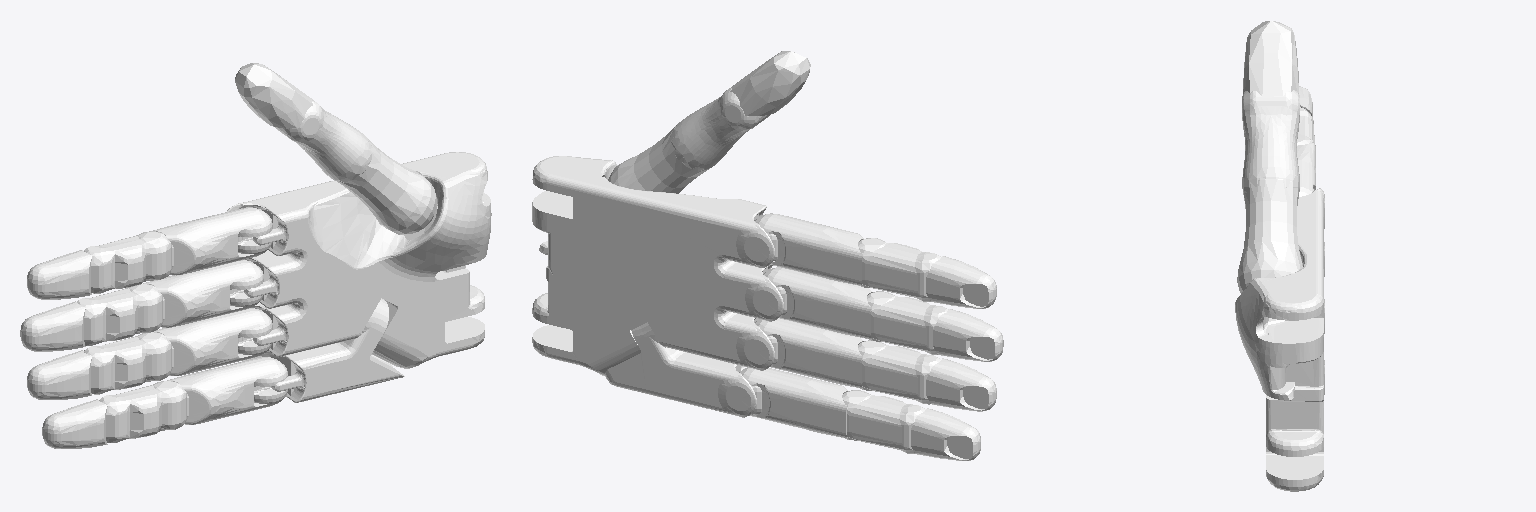
--- Facts derived from the render (not from the file) ---
3 views of the same robot in one strip: view 1: azimuth 30°, elevation 25°; view 2: azimuth 150°, elevation 25°; view 3: azimuth 270°, elevation 25° (orthographic).
Robot: converted_robot — 49 links, 48 joints (22 revolute, 26 fixed); root link world; default pose: every joint at zero.
Visible links, largest first — view 1: robot0:palm, robot0:lfmetacarpal, robot0:thproximal, robot0:lfproximal, robot0:ffproximal, robot0:mfproximal, robot0:rfproximal, robot0:thmiddle, robot0:rfmiddle, robot0:lfmiddle, robot0:ffmiddle, robot0:mfmiddle (+9 smaller); view 2: robot0:palm, robot0:lfmetacarpal, robot0:ffproximal, robot0:lfproximal, robot0:mfproximal, robot0:rfproximal, robot0:thmiddle, robot0:ffmiddle, robot0:lfmiddle, robot0:rfmiddle, robot0:mfmiddle, robot0:thdistal (+5 smaller); view 3: robot0:palm, robot0:thproximal, robot0:thmiddle, robot0:thdistal, robot0:ffproximal.
Boxes of the visible links, x1,y1,x2,y2 form: robot0:palm: (227,152,491,368); robot0:lfmetacarpal: (243,298,404,402); robot0:thproximal: (335,138,436,234); robot0:lfproximal: (167,357,284,424); robot0:ffproximal: (153,207,269,275); robot0:mfproximal: (143,260,260,327); robot0:rfproximal: (154,308,269,375); robot0:thmiddle: (275,100,372,182); robot0:rfmiddle: (84,332,171,394); robot0:lfmiddle: (99,381,186,442); robot0:ffmiddle: (84,231,171,293); robot0:mfmiddle: (77,284,162,345); robot0:palm: (532,156,783,376); robot0:lfmetacarpal: (605,322,756,417); robot0:ffproximal: (754,213,863,285); robot0:lfproximal: (739,367,847,437); robot0:mfproximal: (763,267,872,338); robot0:rfproximal: (755,318,863,388); robot0:thmiddle: (670,88,769,171); robot0:ffmiddle: (858,238,940,301); robot0:lfmiddle: (842,390,925,453); robot0:rfmiddle: (858,340,940,404); robot0:mfmiddle: (867,291,948,354); robot0:thdistal: (730,51,810,115); robot0:palm: (1235,188,1324,491); robot0:thproximal: (1237,176,1302,292); robot0:thmiddle: (1242,90,1299,195); robot0:thdistal: (1243,21,1298,97); robot0:ffproximal: (1297,143,1315,196).
Bounding box of the posed robot: 0.2096 × 0.0343 × 0.1548 m (x, y, z).
Meshes: 9 distinct files referenced, 21 mesh visuals loaded (9 binary STL).

The robot description file, URDF, robot "converted_robot":
<?xml version="1.0" ?>
<robot name="converted_robot">
   <link name="world">
      <inertial>
         <origin xyz="0.0 0.0 0.0" rpy="0 0.0 0"/>
         <mass value="0.0"/>
         <inertia ixx="0.0" iyy="0.0" izz="0.0" ixy="0" ixz="0" iyz="0"/>
      </inertial>
   </link>
   <link name="robot0:hand mount">
      <inertial>
         <origin xyz="0.0 0.0 0.0" rpy="0.0 0.0 0.0"/>
         <mass value="0.1"/>
         <inertia ixx="0.001" iyy="0.001" izz="0.001" ixy="0" ixz="0" iyz="0"/>
      </inertial>
   </link>
   <link name="world2robot0:hand mount_fixed_jointbody">
      <inertial>
         <origin xyz="0.0 0.0 0.0" rpy="0.0 0.0 0.0"/>
         <mass value="0.001"/>
         <inertia ixx="1e-09" iyy="1e-09" izz="1e-09" ixy="0" ixz="0" iyz="0"/>
      </inertial>
   </link>     
   <joint type="fixed" name="world2robot0:hand mount_fixed">
      <parent link="world"/>
      <child link="world2robot0:hand mount_fixed_jointbody"/>
      <origin xyz="0.0 0.0 0.0" rpy="0.0 -1.5707963267948966 0.0"/>
   </joint>
   <joint type="fixed" name="world2robot0:hand mount_fixed_offset">
      <parent link="world2robot0:hand mount_fixed_jointbody"/>
      <child link="robot0:hand mount"/>
      <origin xyz="-0.0 -0.0 -0.0" rpy="0.0 0.0 0.0"/>
   </joint>
   <link name="robot0:palm">
      <inertial>
         <origin xyz="0.006 0.0 0.036" rpy="0.16784713124221648 0.04641103986884443 1.5420568046006367"/>
         <mass value="4.0"/>
         <inertia ixx="0.01" iyy="0.01" izz="0.0075" ixy="0" ixz="0" iyz="0"/>
      </inertial>
      <visual name="robot0:palm">
         <origin xyz="0.006188630086341022 -0.0006422059367043002 0.036023517307350136" rpy="0.18523084714855362 0.047842548447998734 1.5429462516268304"/>
         <geometry>
            <mesh filename="converted_robot0:palm.stl"/>
         </geometry>
         <material name="white"/>
      </visual>
   </link>
   <link name="robot0:hand mount2robot0:palm_fixed_jointbody">
      <inertial>
         <origin xyz="0.0 0.0 0.0" rpy="0.0 0.0 0.0"/>
         <mass value="0.001"/>
         <inertia ixx="1e-09" iyy="1e-09" izz="1e-09" ixy="0" ixz="0" iyz="0"/>
      </inertial>
   </link>
   <joint type="fixed" name="robot0:hand mount2robot0:palm_fixed">
      <parent link="robot0:hand mount"/>
      <child link="robot0:hand mount2robot0:palm_fixed_jointbody"/>
      <origin xyz="0.0 0.0 0.0" rpy="0.0 0.0 0.0"/>
   </joint>
   <joint type="fixed" name="robot0:hand mount2robot0:palm_fixed_offset">
      <parent link="robot0:hand mount2robot0:palm_fixed_jointbody"/>
      <child link="robot0:palm"/>
      <origin xyz="-0.0 -0.0 -0.0" rpy="0.0 0.0 0.0"/>
   </joint>
   <link name="robot0:ffknuckle">
      <inertial>
         <origin xyz="0.0 0.0 0.0" rpy="2.0477583421747254 0.011366961427066169 0.007130225047531689"/>
         <mass value="0.008"/>
         <inertia ixx="1e-05" iyy="1e-05" izz="1e-05" ixy="0" ixz="0" iyz="0"/>
      </inertial>
      <visual name="robot0:knuckle">
         <origin xyz="-7.984755103175037e-06 0.00018549594562487147 0.00028291811195881977" rpy="2.0471337843138473 0.011288391859240576 0.0072775998130758905"/>
         <geometry>
            <mesh filename="converted_robot0:knuckle.stl"/>
         </geometry>
         <material name="white"/>
      </visual>
   </link>
   <link name="robot0:FFJ3_jointbody">
      <inertial>
         <origin xyz="0.0 0.0 0.0" rpy="0.0 0.0 0.0"/>
         <mass value="0.001"/>
         <inertia ixx="1e-09" iyy="1e-09" izz="1e-09" ixy="0" ixz="0" iyz="0"/>
      </inertial>
   </link>
   <joint type="revolute" name="robot0:FFJ3">
      <parent link="robot0:palm"/>
      <child link="robot0:FFJ3_jointbody"/>
      <origin xyz="0.033 0.0 0.095" rpy="0.0 0.0 0.0"/>
      <axis xyz="0.0 1.0 0.0"/>
      <limit lower="-0.349" upper="0.349" effort="100" velocity="100"/>
   </joint>
   <joint type="fixed" name="robot0:FFJ3_offset">
      <parent link="robot0:FFJ3_jointbody"/>
      <child link="robot0:ffknuckle"/>
      <origin xyz="-0.0 -0.0 -0.0" rpy="0.0 0.0 0.0"/>
   </joint>
   <link name="robot0:ffproximal">
      <inertial>
         <origin xyz="0.0 0.0 0.023" rpy="0.0 0.011315296524084362 1.5707963267948966"/>
         <mass value="0.014"/>
         <inertia ixx="1e-05" iyy="1e-05" izz="1e-05" ixy="0" ixz="0" iyz="0"/>
      </inertial>
      <visual name="robot0:F3">
         <origin xyz="1.2109050075444518e-06 9.761867807593364e-06 0.022880663855845584" rpy="-7.130367859915891e-06 0.011893974846255873 1.5705985128531308"/>
         <geometry>
            <mesh filename="converted_robot0:F3.stl"/>
         </geometry>
         <material name="white"/>
      </visual>
   </link>
   <link name="robot0:FFJ2_jointbody">
      <inertial>
         <origin xyz="0.0 0.0 0.0" rpy="0.0 0.0 0.0"/>
         <mass value="0.001"/>
         <inertia ixx="1e-09" iyy="1e-09" izz="1e-09" ixy="0" ixz="0" iyz="0"/>
      </inertial>
   </link>
   <joint type="revolute" name="robot0:FFJ2">
      <parent link="robot0:ffknuckle"/>
      <child link="robot0:FFJ2_jointbody"/>
      <origin xyz="0.0 0.0 0.0" rpy="0.0 0.0 0.0"/>
      <axis xyz="1.0 0.0 0.0"/>
      <limit lower="0.0" upper="1.571" effort="100" velocity="100"/>
   </joint>
   <joint type="fixed" name="robot0:FFJ2_offset">
      <parent link="robot0:FFJ2_jointbody"/>
      <child link="robot0:ffproximal"/>
      <origin xyz="-0.0 -0.0 -0.0" rpy="0.0 0.0 0.0"/>
   </joint>
   <link name="robot0:ffmiddle">
      <inertial>
         <origin xyz="0.0 0.0 0.011" rpy="0.0 0.0 1.5707963267948963"/>
         <mass value="0.012"/>
         <inertia ixx="1e-05" iyy="1e-05" izz="1e-05" ixy="0" ixz="0" iyz="0"/>
      </inertial>
      <visual name="robot0:F2">
         <origin xyz="-2.7107102874988925e-06 -3.218722724901653e-05 0.011475158468883542" rpy="-1.6030408530105524e-05 -0.0002661570742428232 1.5707963267948966"/>
         <geometry>
            <mesh filename="converted_robot0:F2.stl"/>
         </geometry>
         <material name="white"/>
      </visual>
   </link>
   <link name="robot0:FFJ1_jointbody">
      <inertial>
         <origin xyz="0.0 0.0 0.0" rpy="0.0 0.0 0.0"/>
         <mass value="0.001"/>
         <inertia ixx="1e-09" iyy="1e-09" izz="1e-09" ixy="0" ixz="0" iyz="0"/>
      </inertial>
   </link>
   <joint type="revolute" name="robot0:FFJ1">
      <parent link="robot0:ffproximal"/>
      <child link="robot0:FFJ1_jointbody"/>
      <origin xyz="0.0 0.0 0.045" rpy="0.0 0.0 0.0"/>
      <axis xyz="1.0 0.0 0.0"/>
      <limit lower="0.0" upper="1.571" effort="100" velocity="100"/>
   </joint>
   <joint type="fixed" name="robot0:FFJ1_offset">
      <parent link="robot0:FFJ1_jointbody"/>
      <child link="robot0:ffmiddle"/>
      <origin xyz="-0.0 -0.0 -0.0" rpy="0.0 0.0 0.0"/>
   </joint>
   <link name="robot0:ffdistal">
      <inertial>
         <origin xyz="0.0 0.0 0.015" rpy="-8.673929730061765e-19 0.008486512007798819 1.5707963267948966"/>
         <mass value="0.01"/>
         <inertia ixx="1e-05" iyy="1e-05" izz="1e-05" ixy="0" ixz="0" iyz="0"/>
      </inertial>
      <visual name="robot0:F1">
         <origin xyz="7.811151132214205e-09 -4.4263651662937025e-05 0.016242626073421716" rpy="0.0 0.007786172590363849 1.5707963267948966"/>
         <geometry>
            <mesh filename="converted_robot0:F1.stl"/>
         </geometry>
         <material name="white"/>
      </visual>
   </link>
   <link name="robot0:FFJ0_jointbody">
      <inertial>
         <origin xyz="0.0 0.0 0.0" rpy="0.0 0.0 0.0"/>
         <mass value="0.001"/>
         <inertia ixx="1e-09" iyy="1e-09" izz="1e-09" ixy="0" ixz="0" iyz="0"/>
      </inertial>
   </link>
   <joint type="revolute" name="robot0:FFJ0">
      <parent link="robot0:ffmiddle"/>
      <child link="robot0:FFJ0_jointbody"/>
      <origin xyz="0.0 0.0 0.025" rpy="0.0 0.0 0.0"/>
      <axis xyz="1.0 0.0 0.0"/>
      <limit lower="0.0" upper="1.571" effort="100" velocity="100"/>
   </joint>
   <joint type="fixed" name="robot0:FFJ0_offset">
      <parent link="robot0:FFJ0_jointbody"/>
      <child link="robot0:ffdistal"/>
      <origin xyz="-0.0 -0.0 -0.0" rpy="0.0 0.0 0.0"/>
   </joint>
   <link name="robot0:mfknuckle">
      <inertial>
         <origin xyz="0.0 0.0 0.0" rpy="2.0477583421747254 0.011366961427066169 0.007130225047531689"/>
         <mass value="0.008"/>
         <inertia ixx="1e-05" iyy="1e-05" izz="1e-05" ixy="0" ixz="0" iyz="0"/>
      </inertial>
      <visual name="robot0:knuckle">
         <origin xyz="-7.984755103175037e-06 0.00018549594562487147 0.00028291811195881977" rpy="2.0471337843138473 0.011288391859240576 0.0072775998130758905"/>
         <geometry>
            <mesh filename="converted_robot0:knuckle.stl"/>
         </geometry>
         <material name="white"/>
      </visual>
   </link>
   <link name="robot0:MFJ3_jointbody">
      <inertial>
         <origin xyz="0.0 0.0 0.0" rpy="0.0 0.0 0.0"/>
         <mass value="0.001"/>
         <inertia ixx="1e-09" iyy="1e-09" izz="1e-09" ixy="0" ixz="0" iyz="0"/>
      </inertial>
   </link>
   <joint type="revolute" name="robot0:MFJ3">
      <parent link="robot0:palm"/>
      <child link="robot0:MFJ3_jointbody"/>
      <origin xyz="0.011 0.0 0.099" rpy="0.0 0.0 0.0"/>
      <axis xyz="0.0 1.0 0.0"/>
      <limit lower="-0.349" upper="0.349" effort="100" velocity="100"/>
   </joint>
   <joint type="fixed" name="robot0:MFJ3_offset">
      <parent link="robot0:MFJ3_jointbody"/>
      <child link="robot0:mfknuckle"/>
      <origin xyz="-0.0 -0.0 -0.0" rpy="0.0 0.0 0.0"/>
   </joint>
   <link name="robot0:mfproximal">
      <inertial>
         <origin xyz="0.0 0.0 0.023" rpy="0.0 0.011315296524084362 1.5707963267948966"/>
         <mass value="0.014"/>
         <inertia ixx="1e-05" iyy="1e-05" izz="1e-05" ixy="0" ixz="0" iyz="0"/>
      </inertial>
      <visual name="robot0:F3">
         <origin xyz="1.2109050075444518e-06 9.761867807593364e-06 0.022880663855845584" rpy="-7.130367859915891e-06 0.011893974846255873 1.5705985128531308"/>
         <geometry>
            <mesh filename="converted_robot0:F3.stl"/>
         </geometry>
         <material name="white"/>
      </visual>
   </link>
   <link name="robot0:MFJ2_jointbody">
      <inertial>
         <origin xyz="0.0 0.0 0.0" rpy="0.0 0.0 0.0"/>
         <mass value="0.001"/>
         <inertia ixx="1e-09" iyy="1e-09" izz="1e-09" ixy="0" ixz="0" iyz="0"/>
      </inertial>
   </link>
   <joint type="revolute" name="robot0:MFJ2">
      <parent link="robot0:mfknuckle"/>
      <child link="robot0:MFJ2_jointbody"/>
      <origin xyz="0.0 0.0 0.0" rpy="0.0 0.0 0.0"/>
      <axis xyz="1.0 0.0 0.0"/>
      <limit lower="0.0" upper="1.571" effort="100" velocity="100"/>
   </joint>
   <joint type="fixed" name="robot0:MFJ2_offset">
      <parent link="robot0:MFJ2_jointbody"/>
      <child link="robot0:mfproximal"/>
      <origin xyz="-0.0 -0.0 -0.0" rpy="0.0 0.0 0.0"/>
   </joint>
   <link name="robot0:mfmiddle">
      <inertial>
         <origin xyz="0.0 0.0 0.012" rpy="0.0 0.0 1.5707963267948963"/>
         <mass value="0.012"/>
         <inertia ixx="1e-05" iyy="1e-05" izz="1e-05" ixy="0" ixz="0" iyz="0"/>
      </inertial>
      <visual name="robot0:F2">
         <origin xyz="-2.7107102874988925e-06 -3.218722724901653e-05 0.011475158468883542" rpy="-1.6030408530105524e-05 -0.0002661570742428232 1.5707963267948966"/>
         <geometry>
            <mesh filename="converted_robot0:F2.stl"/>
         </geometry>
         <material name="white"/>
      </visual>
   </link>
   <link name="robot0:MFJ1_jointbody">
      <inertial>
         <origin xyz="0.0 0.0 0.0" rpy="0.0 0.0 0.0"/>
         <mass value="0.001"/>
         <inertia ixx="1e-09" iyy="1e-09" izz="1e-09" ixy="0" ixz="0" iyz="0"/>
      </inertial>
   </link>
   <joint type="revolute" name="robot0:MFJ1">
      <parent link="robot0:mfproximal"/>
      <child link="robot0:MFJ1_jointbody"/>
      <origin xyz="0.0 0.0 0.045" rpy="0.0 0.0 0.0"/>
      <axis xyz="1.0 0.0 0.0"/>
      <limit lower="0.0" upper="1.571" effort="100" velocity="100"/>
   </joint>
   <joint type="fixed" name="robot0:MFJ1_offset">
      <parent link="robot0:MFJ1_jointbody"/>
      <child link="robot0:mfmiddle"/>
      <origin xyz="-0.0 -0.0 -0.0" rpy="0.0 0.0 0.0"/>
   </joint>
   <link name="robot0:mfdistal">
      <inertial>
         <origin xyz="0.0 0.0 0.015" rpy="-8.673929730061765e-19 0.008486512007798819 1.5707963267948966"/>
         <mass value="0.01"/>
         <inertia ixx="1e-05" iyy="1e-05" izz="1e-05" ixy="0" ixz="0" iyz="0"/>
      </inertial>
      <visual name="robot0:F1">
         <origin xyz="7.811151132214205e-09 -4.4263651662937025e-05 0.015242626073421717" rpy="0.0 0.007786172590363849 1.5707963267948966"/>
         <geometry>
            <mesh filename="converted_robot0:F1.stl"/>
         </geometry>
         <material name="white"/>
      </visual>
   </link>
   <link name="robot0:MFJ0_jointbody">
      <inertial>
         <origin xyz="0.0 0.0 0.0" rpy="0.0 0.0 0.0"/>
         <mass value="0.001"/>
         <inertia ixx="1e-09" iyy="1e-09" izz="1e-09" ixy="0" ixz="0" iyz="0"/>
      </inertial>
   </link>
   <joint type="revolute" name="robot0:MFJ0">
      <parent link="robot0:mfmiddle"/>
      <child link="robot0:MFJ0_jointbody"/>
      <origin xyz="0.0 0.0 0.025" rpy="0.0 0.0 0.0"/>
      <axis xyz="1.0 0.0 0.0"/>
      <limit lower="0.0" upper="1.571" effort="100" velocity="100"/>
   </joint>
   <joint type="fixed" name="robot0:MFJ0_offset">
      <parent link="robot0:MFJ0_jointbody"/>
      <child link="robot0:mfdistal"/>
      <origin xyz="-0.0 -0.0 -0.0" rpy="0.0 0.0 0.0"/>
   </joint>
   <link name="robot0:rfknuckle">
      <inertial>
         <origin xyz="0.0 0.0 0.0" rpy="2.0477583421747254 0.011366961427066169 0.007130225047531689"/>
         <mass value="0.008"/>
         <inertia ixx="1e-05" iyy="1e-05" izz="1e-05" ixy="0" ixz="0" iyz="0"/>
      </inertial>
      <visual name="robot0:knuckle">
         <origin xyz="-7.984755103175037e-06 0.00018549594562487147 0.00028291811195881977" rpy="2.0471337843138473 0.011288391859240576 0.0072775998130758905"/>
         <geometry>
            <mesh filename="converted_robot0:knuckle.stl"/>
         </geometry>
         <material name="white"/>
      </visual>
   </link>
   <link name="robot0:RFJ3_jointbody">
      <inertial>
         <origin xyz="0.0 0.0 0.0" rpy="0.0 0.0 0.0"/>
         <mass value="0.001"/>
         <inertia ixx="1e-09" iyy="1e-09" izz="1e-09" ixy="0" ixz="0" iyz="0"/>
      </inertial>
   </link>
   <joint type="revolute" name="robot0:RFJ3">
      <parent link="robot0:palm"/>
      <child link="robot0:RFJ3_jointbody"/>
      <origin xyz="-0.011 0.0 0.095" rpy="0.0 0.0 0.0"/>
      <axis xyz="0.0 1.0 0.0"/>
      <limit lower="-0.349" upper="0.349" effort="100" velocity="100"/>
   </joint>
   <joint type="fixed" name="robot0:RFJ3_offset">
      <parent link="robot0:RFJ3_jointbody"/>
      <child link="robot0:rfknuckle"/>
      <origin xyz="-0.0 -0.0 -0.0" rpy="0.0 0.0 0.0"/>
   </joint>
   <link name="robot0:rfproximal">
      <inertial>
         <origin xyz="0.0 0.0 0.023" rpy="0.0 0.011315296524084362 1.5707963267948966"/>
         <mass value="0.014"/>
         <inertia ixx="1e-05" iyy="1e-05" izz="1e-05" ixy="0" ixz="0" iyz="0"/>
      </inertial>
      <visual name="robot0:F3">
         <origin xyz="1.2109050075444518e-06 9.761867807593364e-06 0.022880663855845584" rpy="-7.130367859915891e-06 0.011893974846255873 1.5705985128531308"/>
         <geometry>
            <mesh filename="converted_robot0:F3.stl"/>
         </geometry>
         <material name="white"/>
      </visual>
   </link>
   <link name="robot0:RFJ2_jointbody">
      <inertial>
         <origin xyz="0.0 0.0 0.0" rpy="0.0 0.0 0.0"/>
         <mass value="0.001"/>
         <inertia ixx="1e-09" iyy="1e-09" izz="1e-09" ixy="0" ixz="0" iyz="0"/>
      </inertial>
   </link>
   <joint type="revolute" name="robot0:RFJ2">
      <parent link="robot0:rfknuckle"/>
      <child link="robot0:RFJ2_jointbody"/>
      <origin xyz="0.0 0.0 0.0" rpy="0.0 0.0 0.0"/>
      <axis xyz="1.0 0.0 0.0"/>
      <limit lower="0.0" upper="1.571" effort="100" velocity="100"/>
   </joint>
   <joint type="fixed" name="robot0:RFJ2_offset">
      <parent link="robot0:RFJ2_jointbody"/>
      <child link="robot0:rfproximal"/>
      <origin xyz="-0.0 -0.0 -0.0" rpy="0.0 0.0 0.0"/>
   </joint>
   <link name="robot0:rfmiddle">
      <inertial>
         <origin xyz="0.0 0.0 0.012" rpy="0.0 0.0 1.5707963267948963"/>
         <mass value="0.012"/>
         <inertia ixx="1e-05" iyy="1e-05" izz="1e-05" ixy="0" ixz="0" iyz="0"/>
      </inertial>
      <visual name="robot0:F2">
         <origin xyz="-2.7107102874988925e-06 -3.218722724901653e-05 0.011475158468883542" rpy="-1.6030408530105524e-05 -0.0002661570742428232 1.5707963267948966"/>
         <geometry>
            <mesh filename="converted_robot0:F2.stl"/>
         </geometry>
         <material name="white"/>
      </visual>
   </link>
   <link name="robot0:RFJ1_jointbody">
      <inertial>
         <origin xyz="0.0 0.0 0.0" rpy="0.0 0.0 0.0"/>
         <mass value="0.001"/>
         <inertia ixx="1e-09" iyy="1e-09" izz="1e-09" ixy="0" ixz="0" iyz="0"/>
      </inertial>
   </link>
   <joint type="revolute" name="robot0:RFJ1">
      <parent link="robot0:rfproximal"/>
      <child link="robot0:RFJ1_jointbody"/>
      <origin xyz="0.0 0.0 0.045" rpy="0.0 0.0 0.0"/>
      <axis xyz="1.0 0.0 0.0"/>
      <limit lower="0.0" upper="1.571" effort="100" velocity="100"/>
   </joint>
   <joint type="fixed" name="robot0:RFJ1_offset">
      <parent link="robot0:RFJ1_jointbody"/>
      <child link="robot0:rfmiddle"/>
      <origin xyz="-0.0 -0.0 -0.0" rpy="0.0 0.0 0.0"/>
   </joint>
   <link name="robot0:rfdistal">
      <inertial>
         <origin xyz="0.0 0.0 0.015" rpy="-8.673929730061765e-19 0.008486512007798819 1.5707963267948966"/>
         <mass value="0.01"/>
         <inertia ixx="1e-05" iyy="1e-05" izz="1e-05" ixy="0" ixz="0" iyz="0"/>
      </inertial>
      <visual name="robot0:F1">
         <origin xyz="7.811151132214205e-09 -4.4263651662937025e-05 0.016242626073421716" rpy="0.0 0.007786172590363849 1.5707963267948966"/>
         <geometry>
            <mesh filename="converted_robot0:F1.stl"/>
         </geometry>
         <material name="white"/>
      </visual>
   </link>
   <link name="robot0:RFJ0_jointbody">
      <inertial>
         <origin xyz="0.0 0.0 0.0" rpy="0.0 0.0 0.0"/>
         <mass value="0.001"/>
         <inertia ixx="1e-09" iyy="1e-09" izz="1e-09" ixy="0" ixz="0" iyz="0"/>
      </inertial>
   </link>
   <joint type="revolute" name="robot0:RFJ0">
      <parent link="robot0:rfmiddle"/>
      <child link="robot0:RFJ0_jointbody"/>
      <origin xyz="0.0 0.0 0.025" rpy="0.0 0.0 0.0"/>
      <axis xyz="1.0 0.0 0.0"/>
      <limit lower="0.0" upper="1.571" effort="100" velocity="100"/>
   </joint>
   <joint type="fixed" name="robot0:RFJ0_offset">
      <parent link="robot0:RFJ0_jointbody"/>
      <child link="robot0:rfdistal"/>
      <origin xyz="-0.0 -0.0 -0.0" rpy="0.0 0.0 0.0"/>
   </joint>
   <link name="robot0:lfmetacarpal">
      <inertial>
         <origin xyz="-0.014 0.001 0.014" rpy="-0.22019365940569408 0.038757914465076926 1.5480065383653392"/>
         <mass value="0.075"/>
         <inertia ixx="1e-05" iyy="1e-05" izz="1e-05" ixy="0" ixz="0" iyz="0"/>
      </inertial>
      <visual name="robot0:lfmetacarpal">
         <origin xyz="-0.01353154432563756 0.0006606416803077212 0.01333776130421415" rpy="-0.2226475243997678 0.03887298278178575 1.54841336766586"/>
         <geometry>
            <mesh filename="converted_robot0:lfmetacarpal.stl"/>
         </geometry>
         <material name="white"/>
      </visual>
   </link>
   <link name="robot0:LFJ4_jointbody">
      <inertial>
         <origin xyz="0.0 0.0 0.0" rpy="0.0 0.0 0.0"/>
         <mass value="0.001"/>
         <inertia ixx="1e-09" iyy="1e-09" izz="1e-09" ixy="0" ixz="0" iyz="0"/>
      </inertial>
   </link>
   <joint type="revolute" name="robot0:LFJ4">
      <parent link="robot0:palm"/>
      <child link="robot0:LFJ4_jointbody"/>
      <origin xyz="-0.017 0.0 0.044" rpy="0.0 0.0 0.0"/>
      <axis xyz="0.5709765904396781 0.0 0.82096634107001"/>
      <limit lower="0.0" upper="0.785" effort="100" velocity="100"/>
   </joint>
   <joint type="fixed" name="robot0:LFJ4_offset">
      <parent link="robot0:LFJ4_jointbody"/>
      <child link="robot0:lfmetacarpal"/>
      <origin xyz="-0.0 -0.0 -0.0" rpy="0.0 0.0 0.0"/>
   </joint>
   <link name="robot0:lfknuckle">
      <inertial>
         <origin xyz="0.0 0.0 0.0" rpy="2.0477583421747254 0.011366961427066169 0.007130225047531689"/>
         <mass value="0.008"/>
         <inertia ixx="1e-05" iyy="1e-05" izz="1e-05" ixy="0" ixz="0" iyz="0"/>
      </inertial>
      <visual name="robot0:knuckle">
         <origin xyz="-7.984755103175037e-06 0.00018549594562487147 0.00028291811195881977" rpy="2.0471337843138473 0.011288391859240576 0.0072775998130758905"/>
         <geometry>
            <mesh filename="converted_robot0:knuckle.stl"/>
         </geometry>
         <material name="white"/>
      </visual>
   </link>
   <link name="robot0:LFJ3_jointbody">
      <inertial>
         <origin xyz="0.0 0.0 0.0" rpy="0.0 0.0 0.0"/>
         <mass value="0.001"/>
         <inertia ixx="1e-09" iyy="1e-09" izz="1e-09" ixy="0" ixz="0" iyz="0"/>
      </inertial>
   </link>
   <joint type="revolute" name="robot0:LFJ3">
      <parent link="robot0:lfmetacarpal"/>
      <child link="robot0:LFJ3_jointbody"/>
      <origin xyz="-0.017 0.0 0.044" rpy="0.0 0.0 0.0"/>
      <axis xyz="0.0 1.0 0.0"/>
      <limit lower="-0.349" upper="0.349" effort="100" velocity="100"/>
   </joint>
   <joint type="fixed" name="robot0:LFJ3_offset">
      <parent link="robot0:LFJ3_jointbody"/>
      <child link="robot0:lfknuckle"/>
      <origin xyz="-0.0 -0.0 -0.0" rpy="0.0 0.0 0.0"/>
   </joint>
   <link name="robot0:lfproximal">
      <inertial>
         <origin xyz="0.0 0.0 0.023" rpy="0.0 0.011315296524084362 1.5707963267948966"/>
         <mass value="0.014"/>
         <inertia ixx="1e-05" iyy="1e-05" izz="1e-05" ixy="0" ixz="0" iyz="0"/>
      </inertial>
      <visual name="robot0:F3">
         <origin xyz="1.2109050075444518e-06 9.761867807593364e-06 0.022880663855845584" rpy="-7.130367859915891e-06 0.011893974846255873 1.5705985128531308"/>
         <geometry>
            <mesh filename="converted_robot0:F3.stl"/>
         </geometry>
         <material name="white"/>
      </visual>
   </link>
   <link name="robot0:LFJ2_jointbody">
      <inertial>
         <origin xyz="0.0 0.0 0.0" rpy="0.0 0.0 0.0"/>
         <mass value="0.001"/>
         <inertia ixx="1e-09" iyy="1e-09" izz="1e-09" ixy="0" ixz="0" iyz="0"/>
      </inertial>
   </link>
   <joint type="revolute" name="robot0:LFJ2">
      <parent link="robot0:lfknuckle"/>
      <child link="robot0:LFJ2_jointbody"/>
      <origin xyz="0.0 0.0 0.0" rpy="0.0 0.0 0.0"/>
      <axis xyz="1.0 0.0 0.0"/>
      <limit lower="0.0" upper="1.571" effort="100" velocity="100"/>
   </joint>
   <joint type="fixed" name="robot0:LFJ2_offset">
      <parent link="robot0:LFJ2_jointbody"/>
      <child link="robot0:lfproximal"/>
      <origin xyz="-0.0 -0.0 -0.0" rpy="0.0 0.0 0.0"/>
   </joint>
   <link name="robot0:lfmiddle">
      <inertial>
         <origin xyz="0.0 0.0 0.012" rpy="0.0 0.0 1.5707963267948963"/>
         <mass value="0.012"/>
         <inertia ixx="1e-05" iyy="1e-05" izz="1e-05" ixy="0" ixz="0" iyz="0"/>
      </inertial>
      <visual name="robot0:F2">
         <origin xyz="-2.7107102874988925e-06 -3.218722724901653e-05 0.011475158468883542" rpy="-1.6030408530105524e-05 -0.0002661570742428232 1.5707963267948966"/>
         <geometry>
            <mesh filename="converted_robot0:F2.stl"/>
         </geometry>
         <material name="white"/>
      </visual>
   </link>
   <link name="robot0:LFJ1_jointbody">
      <inertial>
         <origin xyz="0.0 0.0 0.0" rpy="0.0 0.0 0.0"/>
         <mass value="0.001"/>
         <inertia ixx="1e-09" iyy="1e-09" izz="1e-09" ixy="0" ixz="0" iyz="0"/>
      </inertial>
   </link>
   <joint type="revolute" name="robot0:LFJ1">
      <parent link="robot0:lfproximal"/>
      <child link="robot0:LFJ1_jointbody"/>
      <origin xyz="0.0 0.0 0.045" rpy="0.0 0.0 0.0"/>
      <axis xyz="1.0 0.0 0.0"/>
      <limit lower="0.0" upper="1.571" effort="100" velocity="100"/>
   </joint>
   <joint type="fixed" name="robot0:LFJ1_offset">
      <parent link="robot0:LFJ1_jointbody"/>
      <child link="robot0:lfmiddle"/>
      <origin xyz="-0.0 -0.0 -0.0" rpy="0.0 0.0 0.0"/>
   </joint>
   <link name="robot0:lfdistal">
      <inertial>
         <origin xyz="0.0 0.0 0.015" rpy="-8.673929730061765e-19 0.008486512007798819 1.5707963267948966"/>
         <mass value="0.01"/>
         <inertia ixx="1e-05" iyy="1e-05" izz="1e-05" ixy="0" ixz="0" iyz="0"/>
      </inertial>
      <visual name="robot0:F1">
         <origin xyz="7.811151132214205e-09 -4.4263651662937025e-05 0.016242626073421716" rpy="0.0 0.007786172590363849 1.5707963267948966"/>
         <geometry>
            <mesh filename="converted_robot0:F1.stl"/>
         </geometry>
         <material name="white"/>
      </visual>
   </link>
   <link name="robot0:LFJ0_jointbody">
      <inertial>
         <origin xyz="0.0 0.0 0.0" rpy="0.0 0.0 0.0"/>
         <mass value="0.001"/>
         <inertia ixx="1e-09" iyy="1e-09" izz="1e-09" ixy="0" ixz="0" iyz="0"/>
      </inertial>
   </link>
   <joint type="revolute" name="robot0:LFJ0">
      <parent link="robot0:lfmiddle"/>
      <child link="robot0:LFJ0_jointbody"/>
      <origin xyz="0.0 0.0 0.025" rpy="0.0 0.0 0.0"/>
      <axis xyz="1.0 0.0 0.0"/>
      <limit lower="0.0" upper="1.571" effort="100" velocity="100"/>
   </joint>
   <joint type="fixed" name="robot0:LFJ0_offset">
      <parent link="robot0:LFJ0_jointbody"/>
      <child link="robot0:lfdistal"/>
      <origin xyz="-0.0 -0.0 -0.0" rpy="0.0 0.0 0.0"/>
   </joint>
   <link name="robot0:thbase">
      <inertial>
         <origin xyz="0.0 0.0 0.0" rpy="0.0 0.0 0.0"/>
         <mass value="0.01"/>
         <inertia ixx="1e-05" iyy="1e-05" izz="1e-05" ixy="0" ixz="0" iyz="0"/>
      </inertial>
   </link>
   <link name="robot0:THJ4_jointbody">
      <inertial>
         <origin xyz="0.0 0.0 0.0" rpy="0.0 0.0 0.0"/>
         <mass value="0.001"/>
         <inertia ixx="1e-09" iyy="1e-09" izz="1e-09" ixy="0" ixz="0" iyz="0"/>
      </inertial>
   </link>
   <joint type="revolute" name="robot0:THJ4">
      <parent link="robot0:palm"/>
      <child link="robot0:THJ4_jointbody"/>
      <origin xyz="0.034 -0.009 0.029" rpy="0.0 0.7850000000000001 0.0"/>
      <axis xyz="0.0 0.0 -1.0"/>
      <limit lower="-1.047" upper="1.047" effort="100" velocity="100"/>
   </joint>
   <joint type="fixed" name="robot0:THJ4_offset">
      <parent link="robot0:THJ4_jointbody"/>
      <child link="robot0:thbase"/>
      <origin xyz="-0.0 -0.0 -0.0" rpy="0.0 0.0 0.0"/>
   </joint>
   <link name="robot0:thproximal">
      <inertial>
         <origin xyz="0.0 0.0 0.017" rpy="0.0003816931001962968 0.001962419550433303 0.38420543350573505"/>
         <mass value="0.016"/>
         <inertia ixx="1e-05" iyy="1e-05" izz="1e-05" ixy="0" ixz="0" iyz="0"/>
      </inertial>
      <visual name="robot0:TH3_z">
         <origin xyz="-6.360967064216368e-06 -2.5983991696137005e-05 0.01668455805174587" rpy="-2.126562441803577e-06 0.0010929410093996061 0.3846601877646862"/>
         <geometry>
            <mesh filename="converted_robot0:TH3_z.stl"/>
         </geometry>
         <material name="white"/>
      </visual>
   </link>
   <link name="robot0:THJ3_jointbody">
      <inertial>
         <origin xyz="0.0 0.0 0.0" rpy="0.0 0.0 0.0"/>
         <mass value="0.001"/>
         <inertia ixx="1e-09" iyy="1e-09" izz="1e-09" ixy="0" ixz="0" iyz="0"/>
      </inertial>
   </link>
   <joint type="revolute" name="robot0:THJ3">
      <parent link="robot0:thbase"/>
      <child link="robot0:THJ3_jointbody"/>
      <origin xyz="0.0 0.0 0.0" rpy="0.0 0.0 0.0"/>
      <axis xyz="1.0 0.0 0.0"/>
      <limit lower="0.0" upper="1.222" effort="100" velocity="100"/>
   </joint>
   <joint type="fixed" name="robot0:THJ3_offset">
      <parent link="robot0:THJ3_jointbody"/>
      <child link="robot0:thproximal"/>
      <origin xyz="-0.0 -0.0 -0.0" rpy="0.0 0.0 0.0"/>
   </joint>
   <link name="robot0:thhub">
      <inertial>
         <origin xyz="0.0 0.0 0.0" rpy="0.0 0.0 0.0"/>
         <mass value="0.002"/>
         <inertia ixx="1e-05" iyy="1e-05" izz="1e-05" ixy="0" ixz="0" iyz="0"/>
      </inertial>
   </link>
   <link name="robot0:THJ2_jointbody">
      <inertial>
         <origin xyz="0.0 0.0 0.0" rpy="0.0 0.0 0.0"/>
         <mass value="0.001"/>
         <inertia ixx="1e-09" iyy="1e-09" izz="1e-09" ixy="0" ixz="0" iyz="0"/>
      </inertial>
   </link>
   <joint type="revolute" name="robot0:THJ2">
      <parent link="robot0:thproximal"/>
      <child link="robot0:THJ2_jointbody"/>
      <origin xyz="0.0 0.0 0.038" rpy="0.0 0.0 0.0"/>
      <axis xyz="1.0 0.0 0.0"/>
      <limit lower="-0.209" upper="0.209" effort="100" velocity="100"/>
   </joint>
   <joint type="fixed" name="robot0:THJ2_offset">
      <parent link="robot0:THJ2_jointbody"/>
      <child link="robot0:thhub"/>
      <origin xyz="-0.0 -0.0 -0.0" rpy="0.0 0.0 0.0"/>
   </joint>
   <link name="robot0:thmiddle">
      <inertial>
         <origin xyz="0.0 0.0 0.016" rpy="-0.002042080886871353 -0.01399363110770424 0.006014270301537724"/>
         <mass value="0.016"/>
         <inertia ixx="1e-05" iyy="1e-05" izz="1e-05" ixy="0" ixz="0" iyz="0"/>
      </inertial>
      <visual name="robot0:TH2_z">
         <origin xyz="7.479638378150726e-05 -4.506971924920631e-05 0.015348397611008651" rpy="0.0 -0.0009035457653698842 0.0"/>
         <geometry>
            <mesh filename="converted_robot0:TH2_z.stl"/>
         </geometry>
         <material name="white"/>
      </visual>
   </link>
   <link name="robot0:THJ1_jointbody">
      <inertial>
         <origin xyz="0.0 0.0 0.0" rpy="0.0 0.0 0.0"/>
         <mass value="0.001"/>
         <inertia ixx="1e-09" iyy="1e-09" izz="1e-09" ixy="0" ixz="0" iyz="0"/>
      </inertial>
   </link>
   <joint type="revolute" name="robot0:THJ1">
      <parent link="robot0:thhub"/>
      <child link="robot0:THJ1_jointbody"/>
      <origin xyz="0.0 0.0 0.0" rpy="0.0 0.0 0.0"/>
      <axis xyz="0.0 1.0 0.0"/>
      <limit lower="-0.524" upper="0.524" effort="100" velocity="100"/>
   </joint>
   <joint type="fixed" name="robot0:THJ1_offset">
      <parent link="robot0:THJ1_jointbody"/>
      <child link="robot0:thmiddle"/>
      <origin xyz="-0.0 -0.0 -0.0" rpy="0.0 0.0 0.0"/>
   </joint>
   <link name="robot0:thdistal">
      <inertial>
         <origin xyz="0.0 0.0 0.016" rpy="-0.01050381536782631 -0.09396984019864618 0.01050381536782631"/>
         <mass value="0.016"/>
         <inertia ixx="1e-05" iyy="1e-05" izz="1e-05" ixy="0" ixz="0" iyz="0"/>
      </inertial>
      <visual name="robot0:TH1_z">
         <origin xyz="0.00015896015287282335 -2.4403496540508268e-05 0.015948989961727226" rpy="-0.01023362447585024 -0.09457409217332846 0.010363263512894247"/>
         <geometry>
            <mesh filename="converted_robot0:TH1_z.stl"/>
         </geometry>
         <material name="white"/>
      </visual>
   </link>
   <link name="robot0:THJ0_jointbody">
      <inertial>
         <origin xyz="0.0 0.0 0.0" rpy="0.0 0.0 0.0"/>
         <mass value="0.001"/>
         <inertia ixx="1e-09" iyy="1e-09" izz="1e-09" ixy="0" ixz="0" iyz="0"/>
      </inertial>
   </link>
   <joint type="revolute" name="robot0:THJ0">
      <parent link="robot0:thmiddle"/>
      <child link="robot0:THJ0_jointbody"/>
      <origin xyz="0.0 0.0 0.032" rpy="0.0 0.0 0.0"/>
      <axis xyz="0.0 1.0 0.0"/>
      <limit lower="-1.571" upper="0.0" effort="100" velocity="100"/>
   </joint>
   <joint type="fixed" name="robot0:THJ0_offset">
      <parent link="robot0:THJ0_jointbody"/>
      <child link="robot0:thdistal"/>
      <origin xyz="-0.0 -0.0 -0.0" rpy="0.0 0.0 0.0"/>
   </joint>
   <material name="white">
      <color rgba="1 1 1 1"/>
   </material>
</robot>
